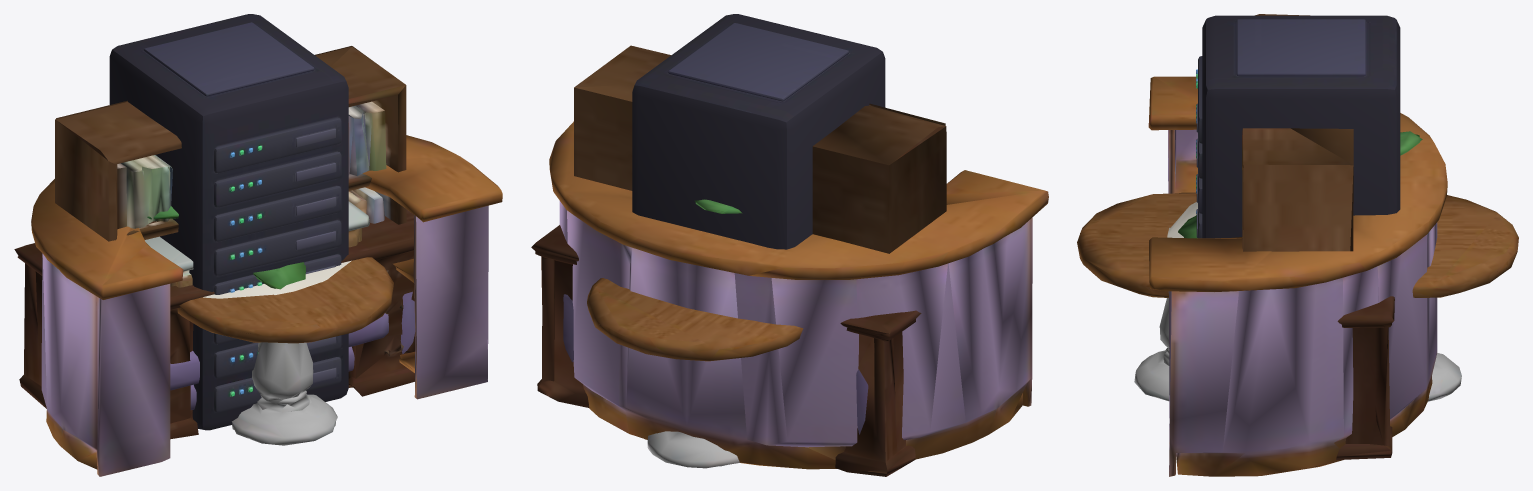
File: office-props-zone-a.ba121955.glb
The picture shows the model from 3 angles, left to right: view 1: azimuth 30°, elevation 25°; view 2: azimuth 150°, elevation 25°; view 3: azimuth 270°, elevation 25°; orthographic projection. The views are drawn at different scales.
Visible parts, largest first — view 1: server-rack, reception-desk, bookshelf, meeting-table, exec-desk, sofa, pantry-counter, round-table, floor-plant; view 2: reception-desk, server-rack, bookshelf, exec-desk, meeting-table, sofa; view 3: reception-desk, server-rack, meeting-table, bookshelf, exec-desk, floor-plant.
Boxes of the visible parts, <box> form: server-rack: <box>109,14,348,430</box>; reception-desk: <box>31,135,502,476</box>; bookshelf: <box>55,46,406,241</box>; meeting-table: <box>177,257,393,445</box>; exec-desk: <box>14,210,415,439</box>; sofa: <box>170,291,415,409</box>; pantry-counter: <box>145,201,369,287</box>; round-table: <box>203,260,351,298</box>; floor-plant: <box>147,206,305,289</box>; reception-desk: <box>549,121,1048,469</box>; server-rack: <box>632,14,885,249</box>; bookshelf: <box>574,45,946,253</box>; exec-desk: <box>531,225,921,476</box>; meeting-table: <box>587,278,803,468</box>; sofa: <box>563,294,868,434</box>; reception-desk: <box>1148,76,1447,476</box>; server-rack: <box>1196,15,1400,238</box>; meeting-table: <box>1077,192,1518,401</box>; bookshelf: <box>1242,14,1353,251</box>; exec-desk: <box>1336,296,1394,459</box>; floor-plant: <box>1178,131,1422,238</box>.
Size of the model in its own units: 2.26 by 1.72 by 2.05.
33 materials, 21 textured.
